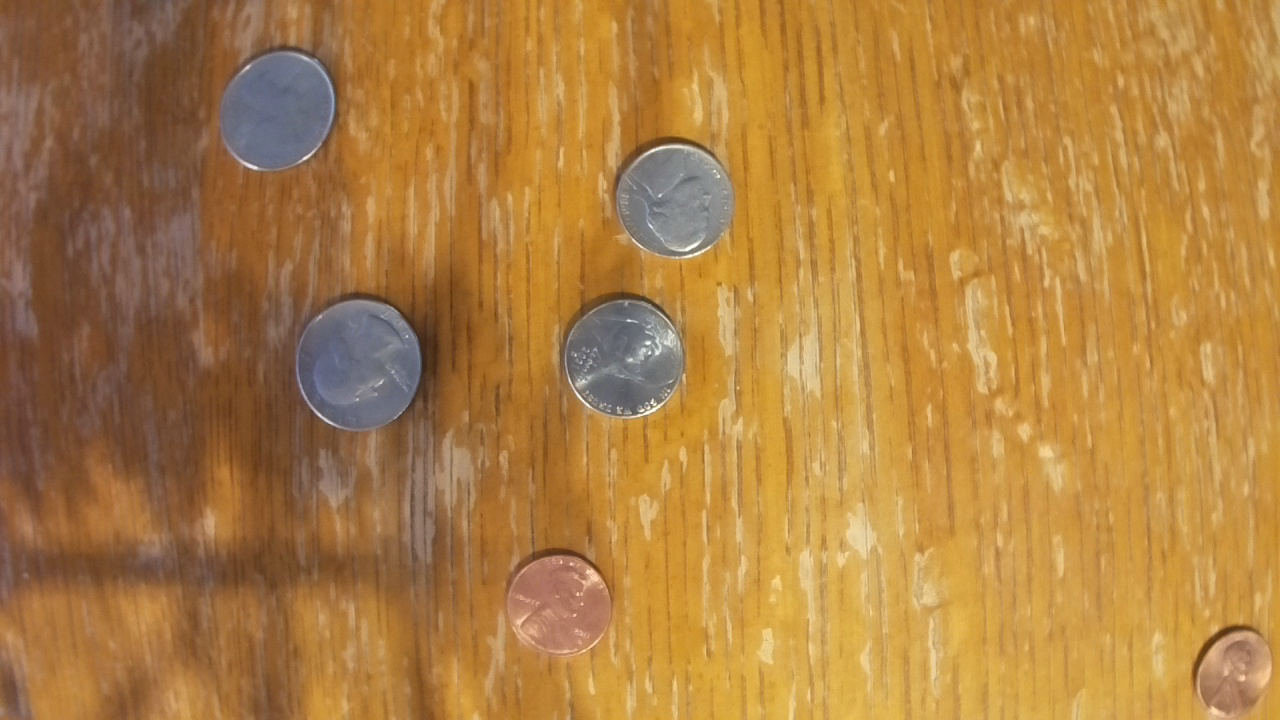nickel: (562, 295, 683, 417), (615, 141, 735, 260)
penny: (505, 553, 613, 658), (1195, 627, 1274, 718)
quarter: (295, 297, 423, 432), (218, 48, 338, 170)
